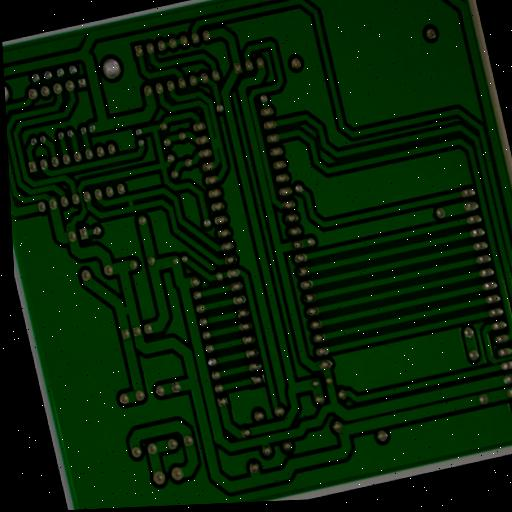short_circuit: (112, 298, 139, 322), (121, 193, 142, 216), (207, 132, 225, 152)
